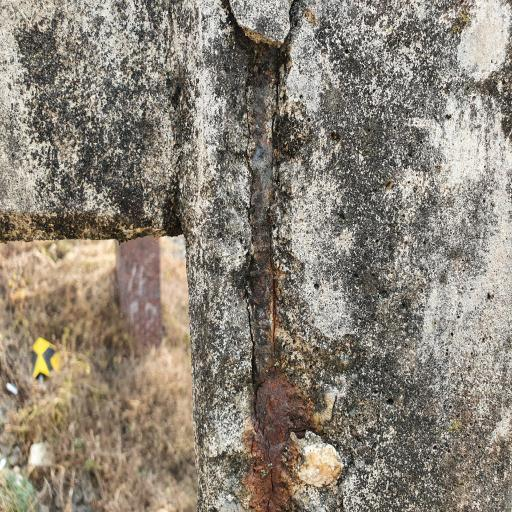exposed_rebar: (247, 43, 279, 430)
